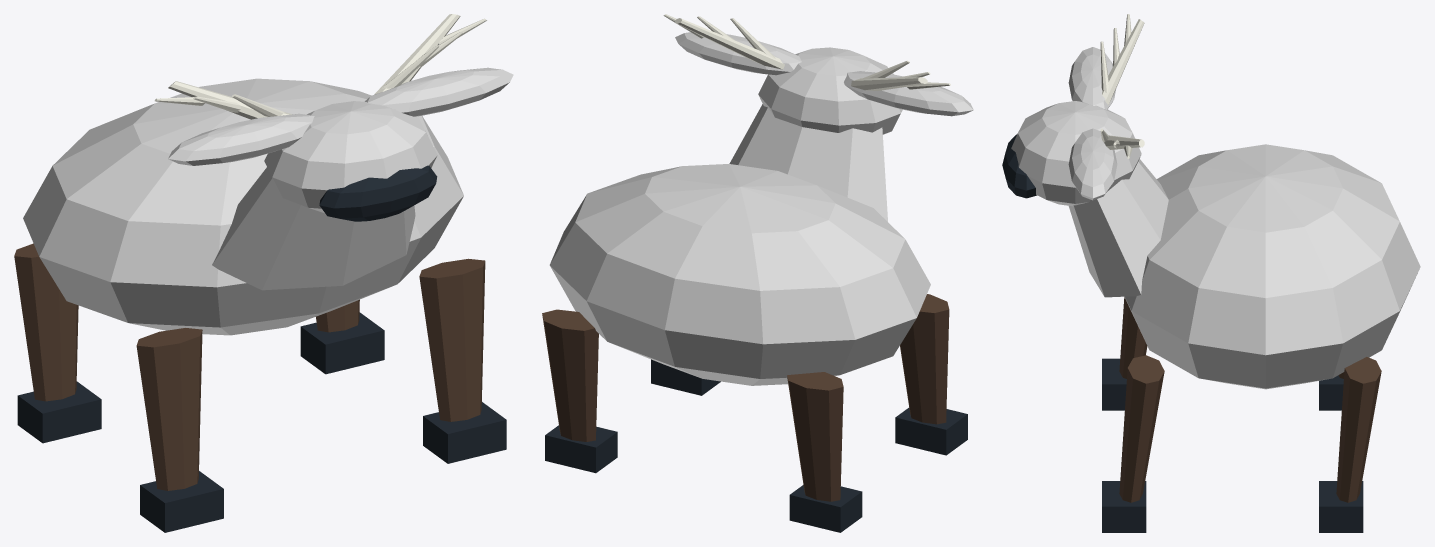
File: elk.glb
3 views of the same model, side by side, from view 1: azimuth 30°, elevation 25°; view 2: azimuth 150°, elevation 25°; view 3: azimuth 270°, elevation 25° (orthographic). The views are drawn at different scales.
Visible parts, largest first — view 1: Sphere, Cone.004, Sphere.001, Cone.001, Cone.003, Cone, Sphere.003, Sphere.004, Sphere.002, Cube.002, Cube, Cube.003 (+4 smaller); view 2: Sphere, Cone.004, Sphere.001, Cone, Cone.002, Cone.001, Sphere.003, Cube, Cube.001, Cube.002, Sphere.004, Cube.003 (+2 smaller); view 3: Sphere, Cone.004, Sphere.001, Cone.003, Cone.002, Sphere.004, Cube.002, Cube.003, Sphere.003, Cone.001, Cube.001, Sphere.002 (+2 smaller).
Boxes of the visible parts, left/top/right/bottom form: Sphere: left=23, top=78, right=463, bottom=335; Cone.004: left=212, top=167, right=415, bottom=290; Sphere.001: left=264, top=101, right=437, bottom=213; Cone.001: left=136, top=328, right=202, bottom=490; Cone.003: left=419, top=258, right=485, bottom=421; Cone: left=14, top=243, right=78, bottom=401; Sphere.003: left=168, top=113, right=314, bottom=165; Sphere.004: left=365, top=67, right=513, bottom=116; Sphere.002: left=319, top=165, right=437, bottom=221; Cube.002: left=300, top=312, right=384, bottom=374; Cube: left=17, top=381, right=101, bottom=443; Cube.003: left=423, top=402, right=506, bottom=463; Sphere: left=549, top=164, right=930, bottom=385; Cone.004: left=729, top=104, right=887, bottom=221; Sphere.001: left=758, top=47, right=902, bottom=134; Cone: left=787, top=372, right=843, bottom=501; Cone.002: left=542, top=309, right=598, bottom=441; Cone.001: left=900, top=294, right=949, bottom=424; Sphere.003: left=844, top=71, right=973, bottom=116; Cube: left=789, top=485, right=862, bottom=532; Cube.001: left=895, top=407, right=967, bottom=455; Cube.002: left=545, top=425, right=617, bottom=473; Sphere.004: left=675, top=32, right=801, bottom=75; Cube.003: left=651, top=359, right=720, bottom=395; Sphere: left=1124, top=144, right=1420, bottom=389; Cone.004: left=1068, top=159, right=1168, bottom=297; Sphere.001: left=1011, top=101, right=1141, bottom=206; Cone.003: left=1119, top=355, right=1164, bottom=502; Cone.002: left=1336, top=357, right=1381, bottom=502; Sphere.004: left=1068, top=128, right=1117, bottom=200; Cube.002: left=1319, top=481, right=1363, bottom=532; Cube.003: left=1102, top=481, right=1146, bottom=532; Sphere.003: left=1068, top=47, right=1116, bottom=109; Cone.001: left=1119, top=297, right=1147, bottom=378; Cube.001: left=1102, top=358, right=1126, bottom=410; Sphere.002: left=1002, top=134, right=1036, bottom=198.
Bounding box in the file's own units: 1 × 1 × 1.
